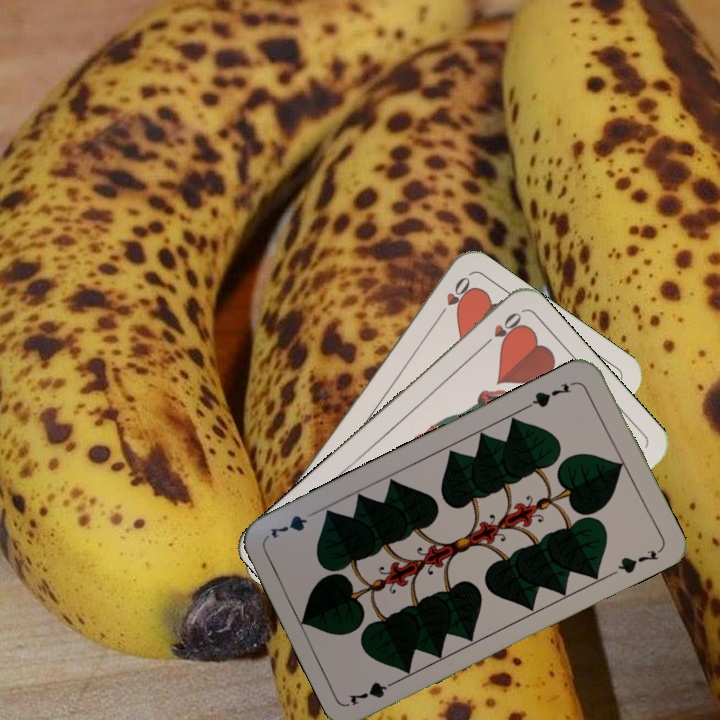G7: (345, 674, 403, 708), (524, 377, 579, 411)
HO: (476, 308, 525, 352), (432, 272, 474, 323)
